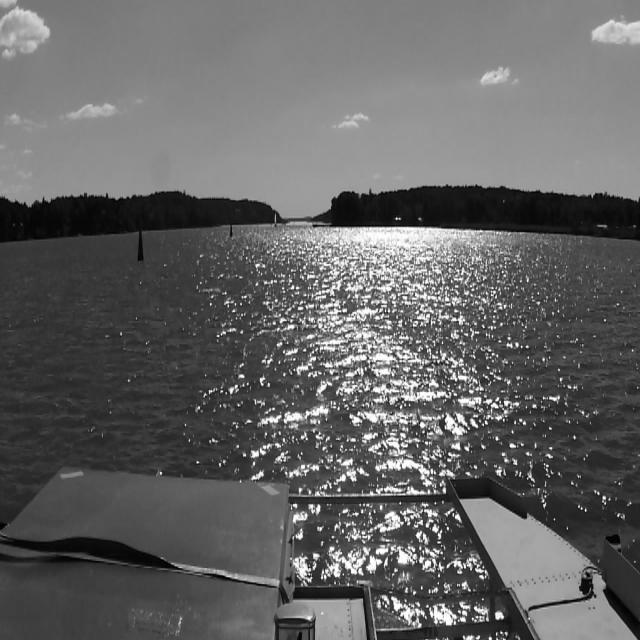buoy: (136, 225, 144, 262), (229, 220, 233, 240)
